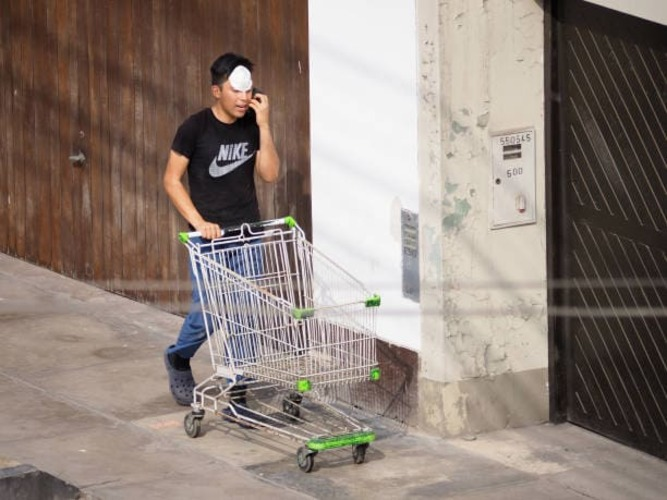with_incorrect_mask: (222, 66, 253, 115)
